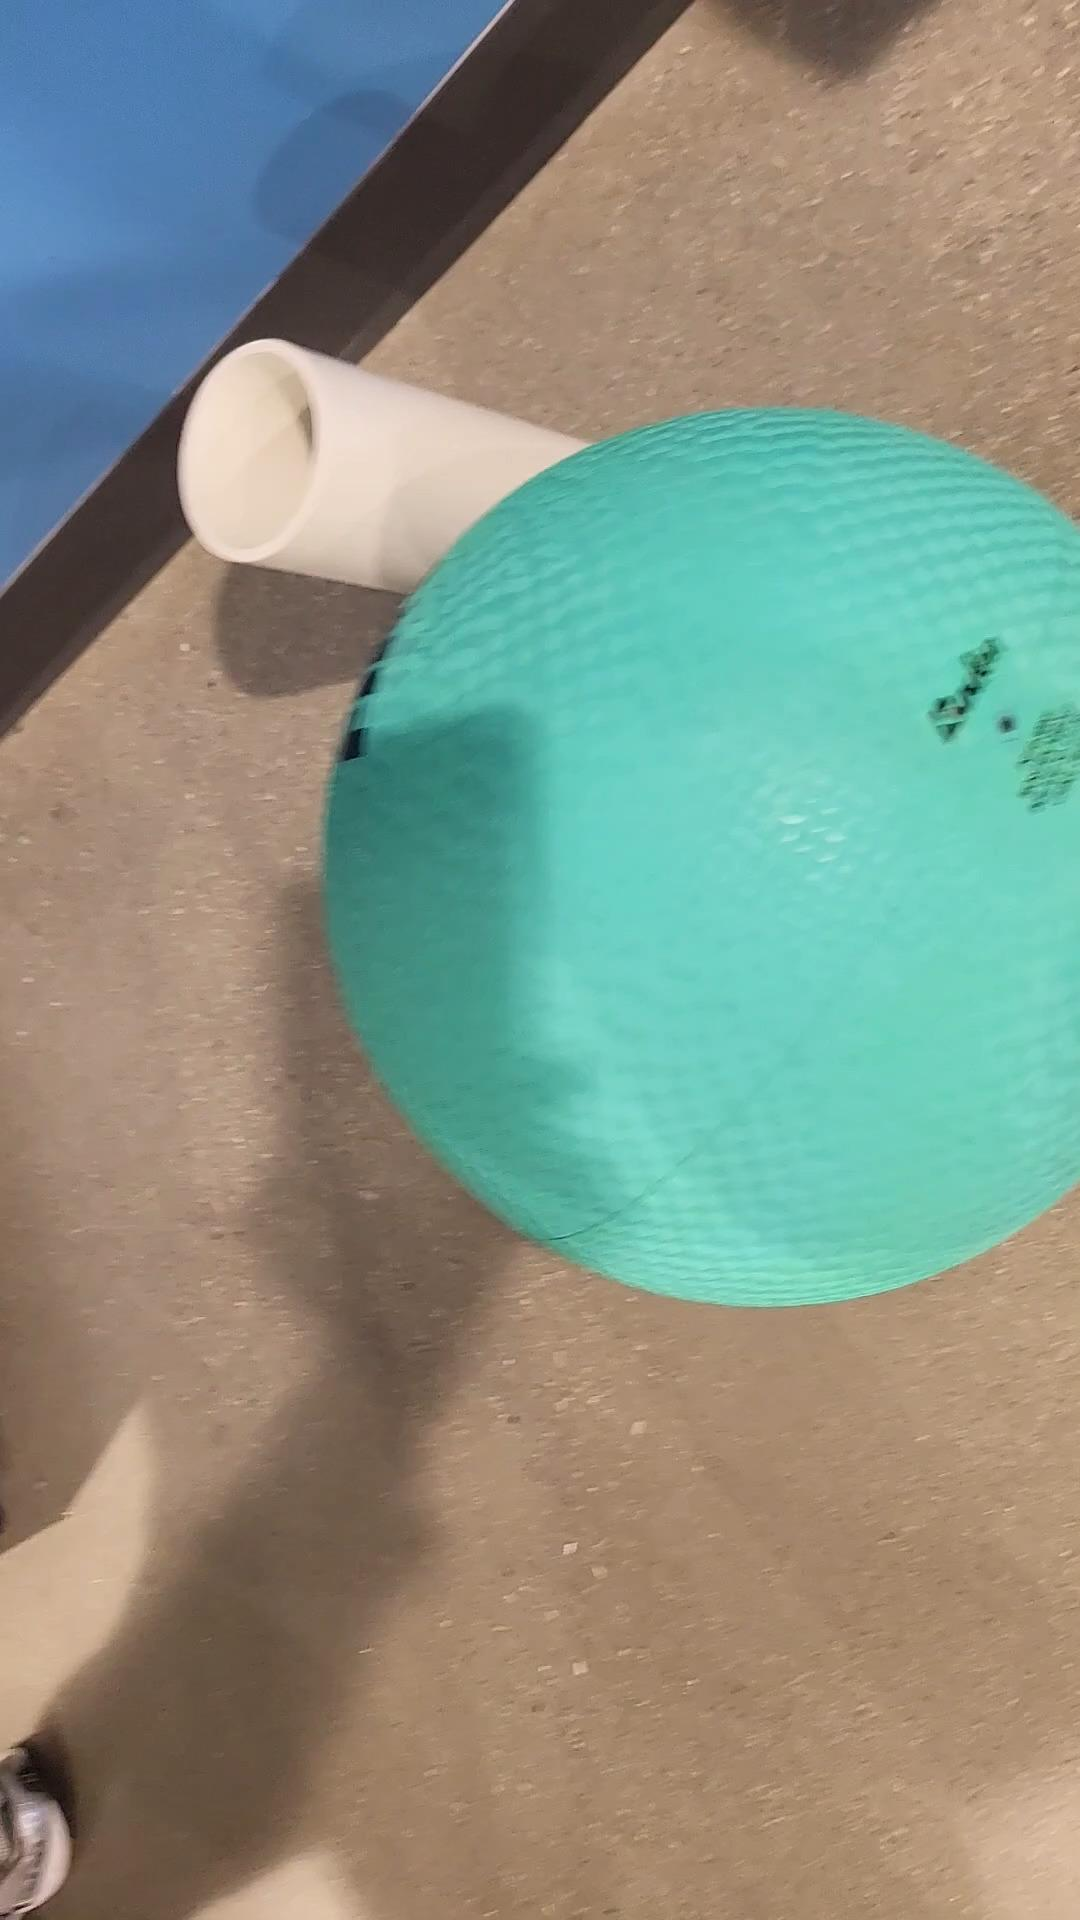algae: (323, 407, 1080, 1309)
coral: (178, 338, 612, 589)
